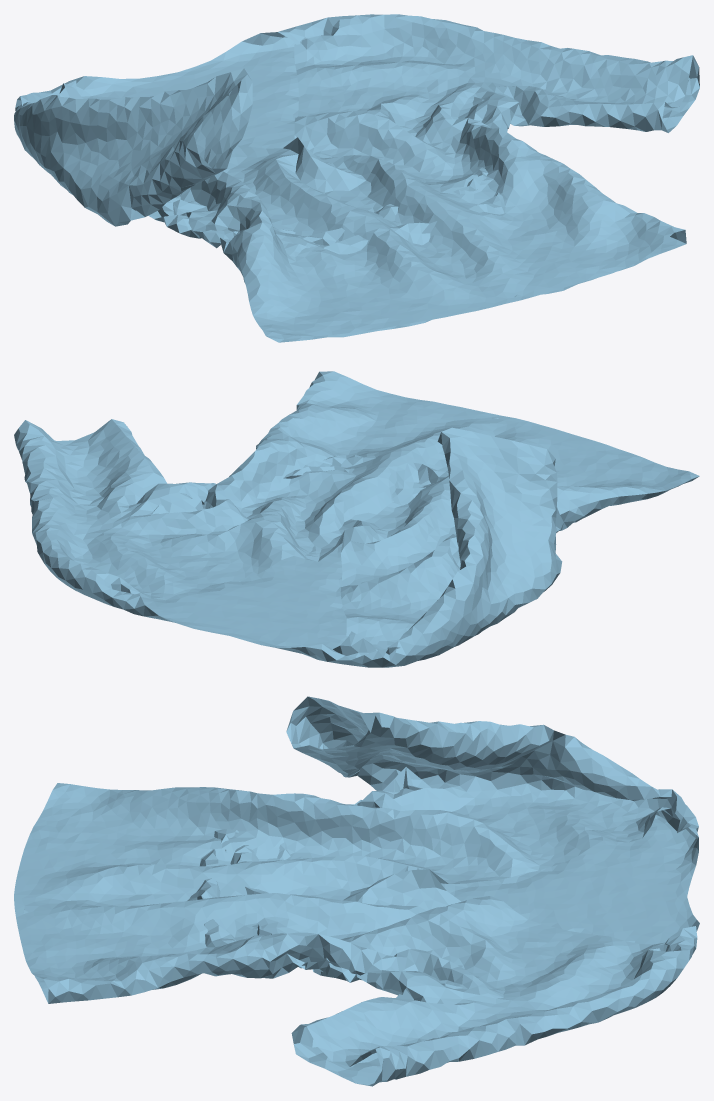
The model's file is frame_14.glb.
3 renders of one model, top to bottom at view 1: azimuth 30°, elevation 25°; view 2: azimuth 150°, elevation 25°; view 3: azimuth 270°, elevation 25°, orthographic. The views are drawn at different scales.
Visible parts, largest first — view 1: frame_14.obj; view 2: frame_14.obj; view 3: frame_14.obj.
Part boxes in pixels (bbox=[...]): frame_14.obj: bbox=[14, 14, 699, 342]; frame_14.obj: bbox=[14, 371, 699, 667]; frame_14.obj: bbox=[14, 696, 699, 1086].
Bounding box in the file's own units: 1.56 × 0.3486 × 1.48.
